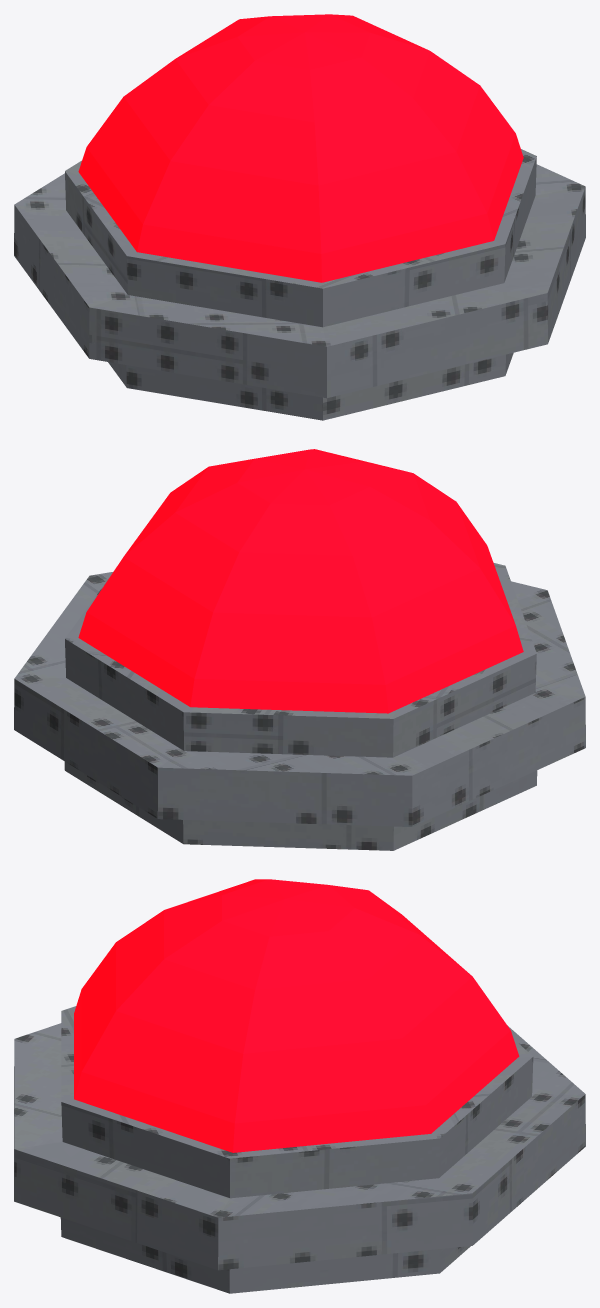
Rendered from redButton.glb.
The picture shows the model from 3 angles, top to bottom: view 1: azimuth 30°, elevation 25°; view 2: azimuth 150°, elevation 25°; view 3: azimuth 270°, elevation 25°; orthographic projection. The views are drawn at different scales.
Visible parts, largest first — view 1: Sphere, Cylinder; view 2: Sphere, Cylinder; view 3: Sphere, Cylinder.
Part boxes in pixels (<box>): Sphere: <box>78,14,523,282</box>; Cylinder: <box>14,149,585,420</box>; Sphere: <box>78,449,523,713</box>; Cylinder: <box>14,563,585,850</box>; Sphere: <box>74,879,519,1152</box>; Cylinder: <box>14,1006,585,1293</box>.
Size of the model in its own units: 2.36 by 1.3 by 2.3.
Materials: 2 (1 with a texture image).
